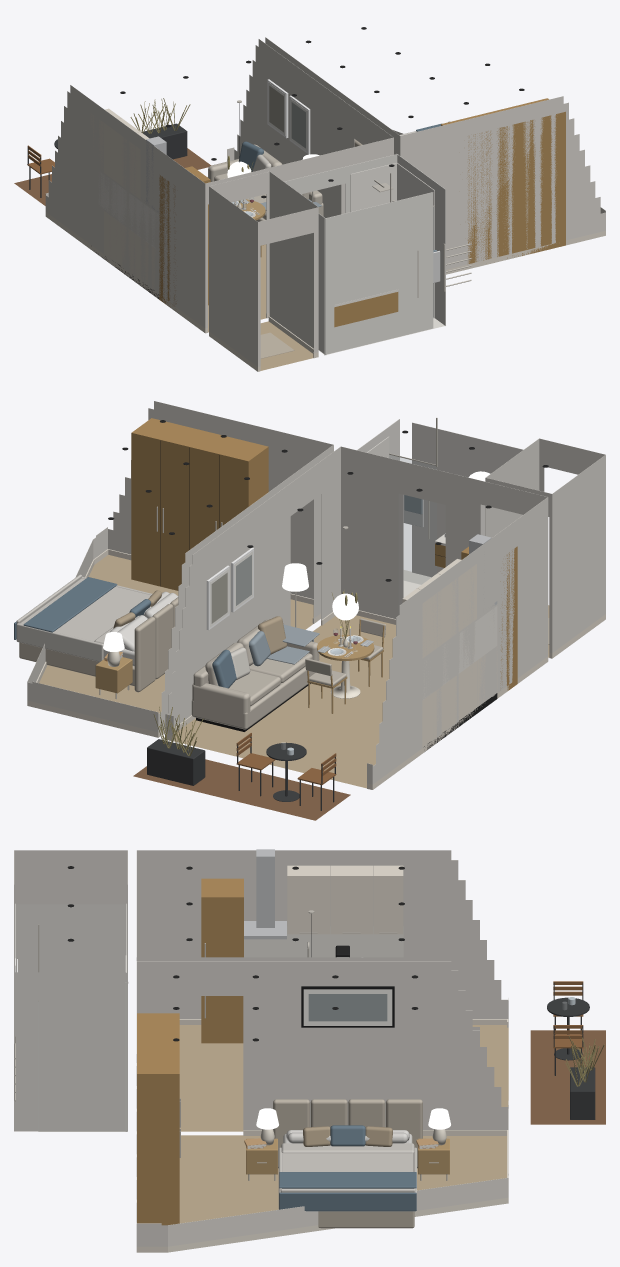
File: unit-2.B-atlantic.glb
3 views of the same model, one above another, from view 1: azimuth 30°, elevation 25°; view 2: azimuth 150°, elevation 25°; view 3: azimuth 270°, elevation 25° (orthographic). The views are drawn at different scales.
Parts seen in each view (by area): view 1: int-wall, int-bathWall, int-joineryTall, int-joinery, int-showerWall, int-splash, int-hallFloor, int-outdoor, int-deck, int-sofa, int-metal, int-white (+7 smaller); view 2: int-wall, int-joineryTall, int-floor, int-joinery, int-bathWall, int-sofa, int-duvet, int-deck, int-headboard, int-outdoor, int-glass, int-bedThrow (+18 smaller); view 3: int-wall, int-bathWall, int-floor, int-joineryTall, int-joinery, int-headboard, int-bedThrow, int-deck, int-duvet, int-splash, int-outdoor, int-art:6:0 (+11 smaller).
Part boxes in pixels (x1,y1,x2,y2): int-wall: (45,37,605,366); int-bathWall: (284,154,445,355); int-joineryTall: (159,98,565,327); int-joinery: (45,108,605,371); int-showerWall: (350,163,434,317); int-splash: (98,172,159,245); int-hallFloor: (260,321,313,370); int-outdoor: (27,123,187,197); int-deck: (14,148,210,205); int-sofa: (208,144,323,221); int-metal: (234,100,471,297); int-white: (267,79,310,154); int-wall: (27,401,605,784); int-joineryTall: (131,418,517,690); int-floor: (39,555,395,788); int-joinery: (27,549,605,789); int-bathWall: (357,419,523,614); int-sofa: (191,619,319,729); int-duvet: (16,574,152,661); int-deck: (133,759,350,820); int-headboard: (19,597,178,692); int-outdoor: (147,736,335,810); int-glass: (389,455,436,584); int-bedThrow: (14,577,117,639); int-wall: (14,850,508,1246); int-bathWall: (14,903,127,1131); int-floor: (179,1025,508,1223); int-joineryTall: (137,878,243,1225); int-joinery: (136,865,508,1252); int-headboard: (273,1099,422,1228); int-bedThrow: (279,1172,416,1211); int-deck: (530,1030,605,1124); int-duvet: (278,1143,416,1209); int-splash: (244,926,403,957); int-outdoor: (547,982,595,1119); int-art:6:0: (308,994,387,1021).
Size of the model in its own units: 7.52 by 2.8 by 8.26.
